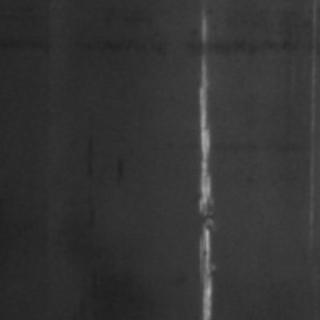scratches: (189, 8, 217, 318)
